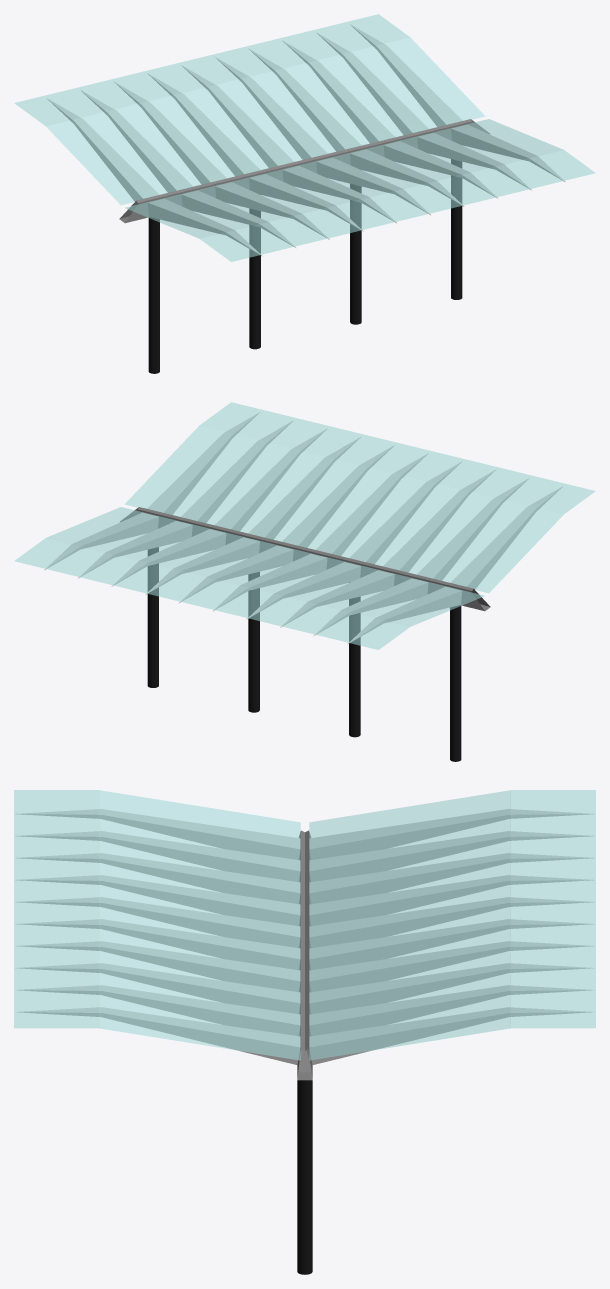
Rendered from TramStop.fbx.
3 views of the same model, one above another, from view 1: azimuth 30°, elevation 25°; view 2: azimuth 150°, elevation 25°; view 3: azimuth 270°, elevation 25° (orthographic). The views are drawn at different scales.
Visible parts, largest first — view 1: Top2, Top1, Midbar, Pole4, Pole2, Pole3, Pole1; view 2: Top1, Top2, Midbar, Pole4, Pole2, Pole3, Pole1; view 3: Top1, Top2, Pole1, Midbar.
Boxes of the visible parts, x1,y1,x2,y2 form: Top2: [14, 14, 484, 205]; Top1: [125, 119, 595, 261]; Midbar: [119, 119, 489, 223]; Pole4: [148, 217, 159, 373]; Pole2: [350, 184, 361, 324]; Pole3: [249, 209, 260, 349]; Pole1: [451, 159, 462, 299]; Top1: [124, 402, 595, 593]; Top2: [14, 507, 484, 649]; Midbar: [120, 507, 490, 611]; Pole4: [450, 605, 461, 761]; Pole2: [248, 572, 259, 712]; Pole3: [349, 597, 360, 737]; Pole1: [147, 547, 158, 687]; Top1: [14, 790, 300, 1064]; Top2: [309, 790, 595, 1064]; Pole1: [297, 1080, 312, 1274]; Midbar: [297, 830, 312, 1080].
Size of the model in its own units: 21.88 by 11.23 by 22.51.
